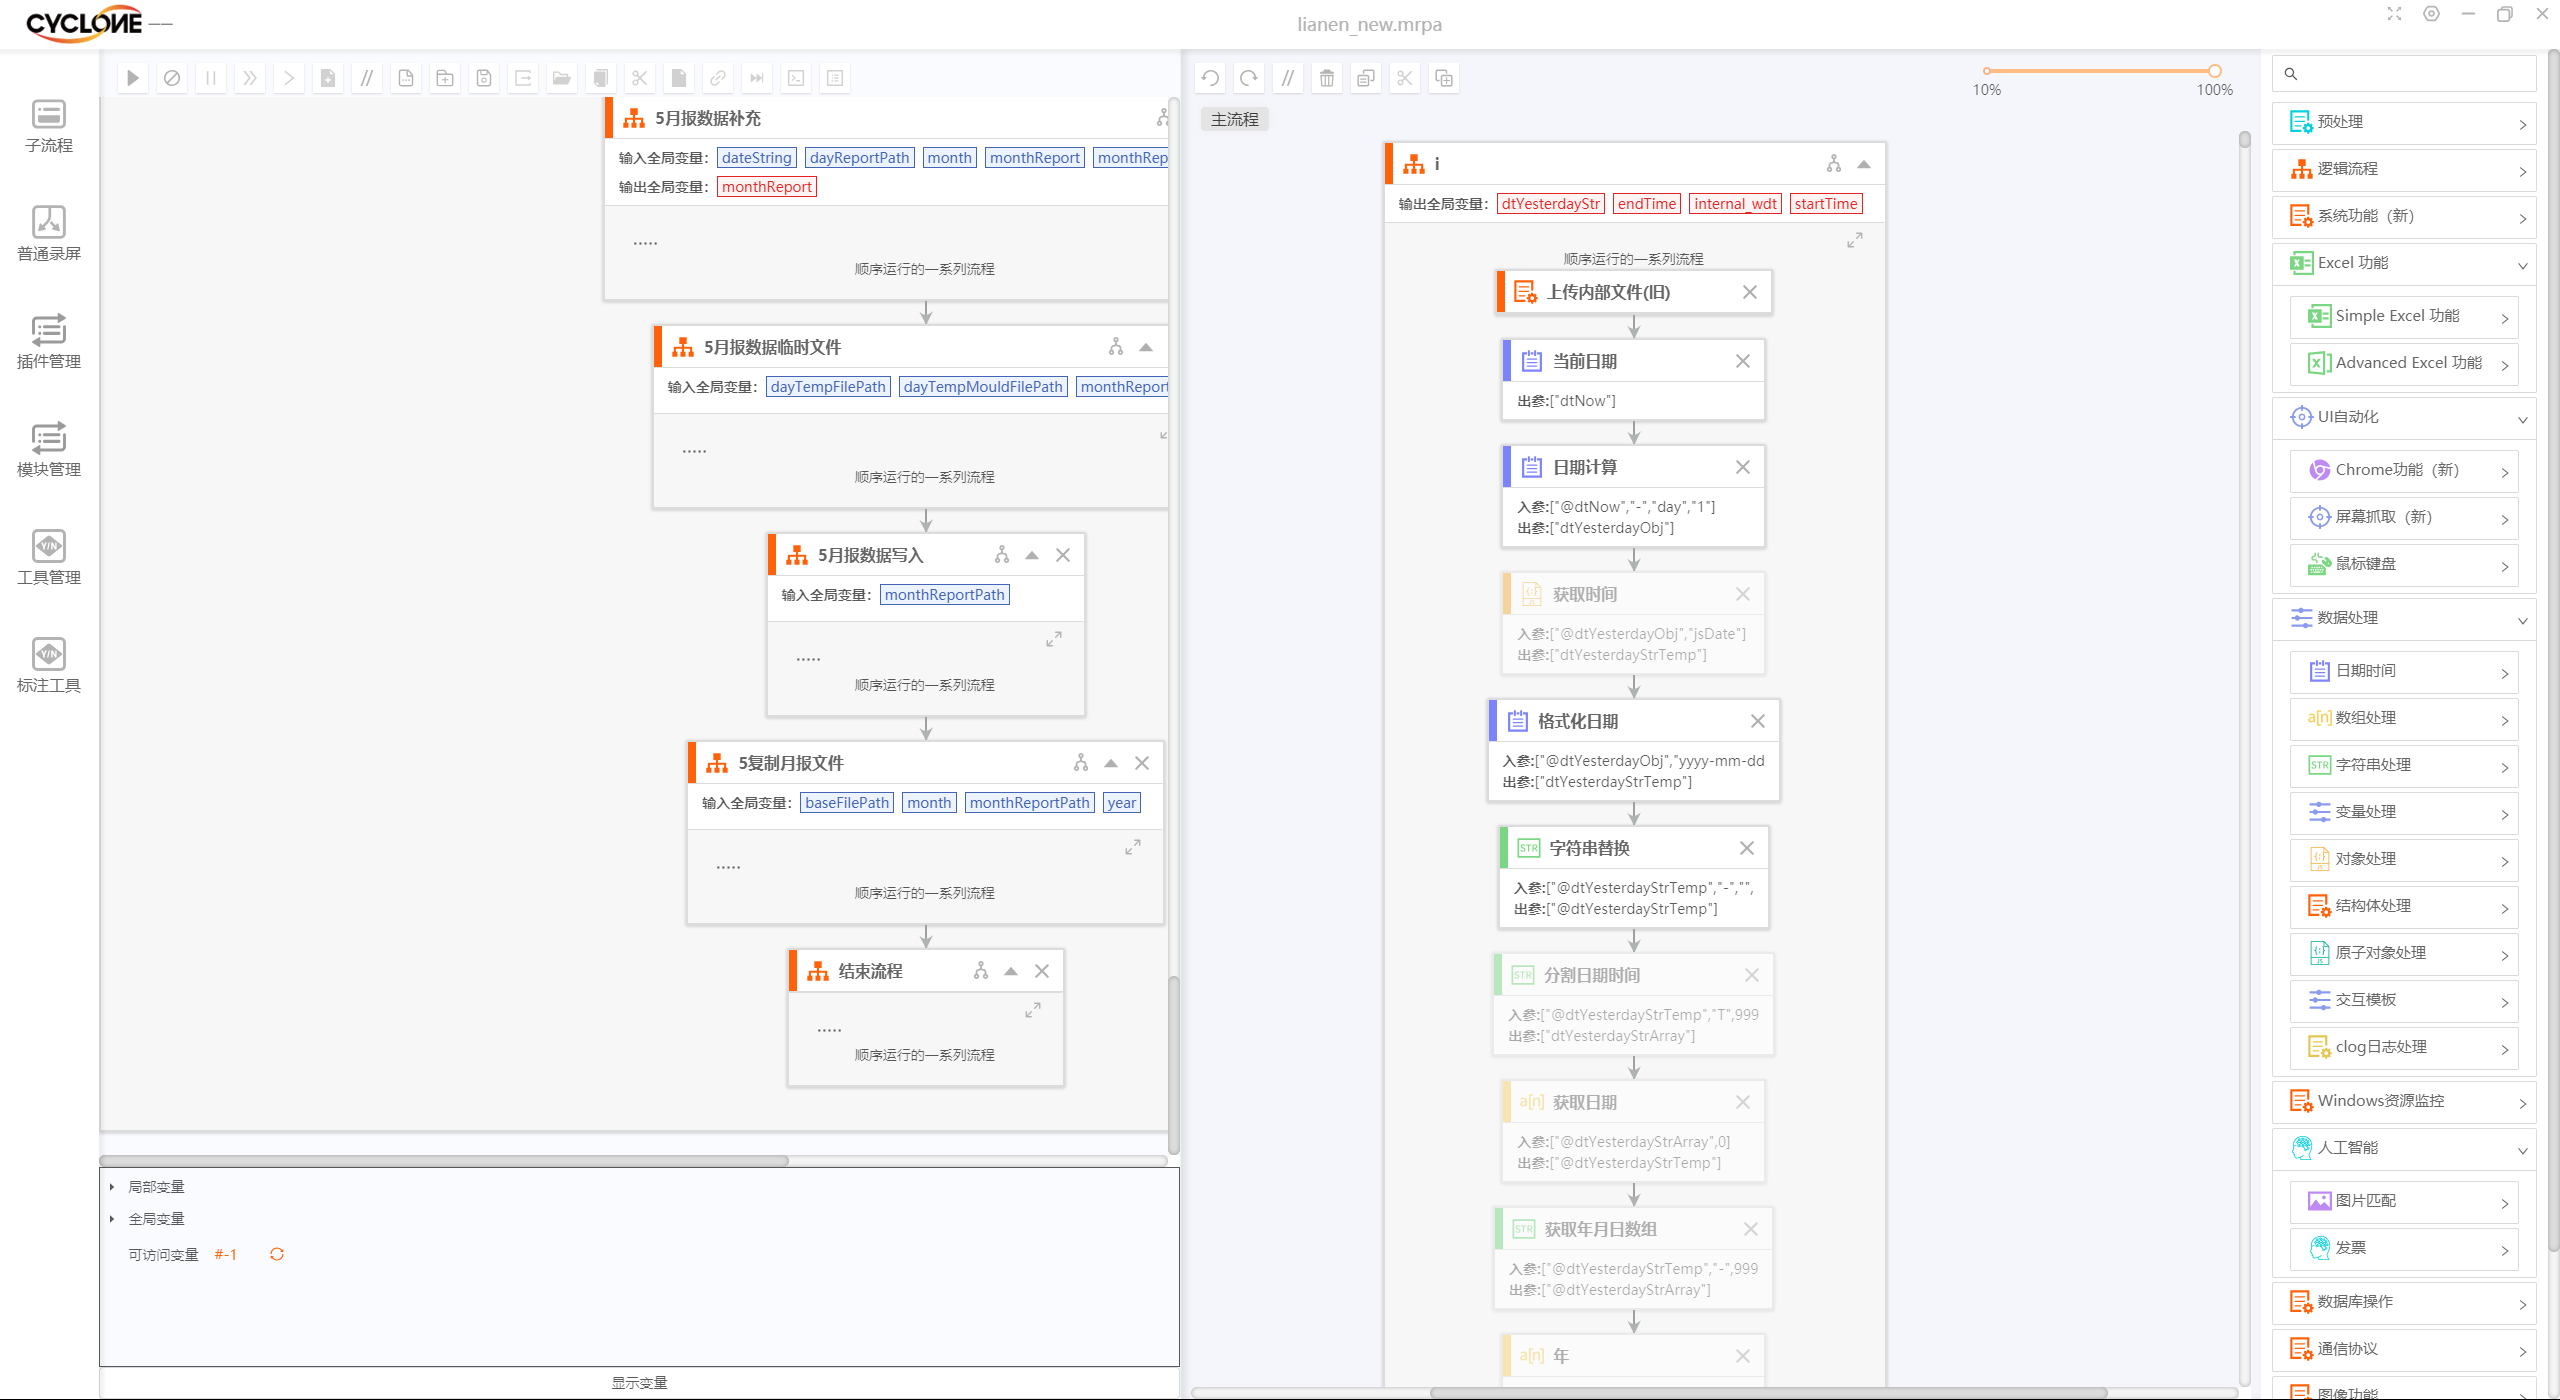character: (1508, 626, 1757, 647), (1510, 876, 1757, 897), (900, 374, 1071, 402), (845, 460, 1003, 490), (1510, 1128, 1733, 1148), (1503, 1259, 1765, 1276), (1502, 1007, 1760, 1022), (1296, 10, 1452, 34), (1500, 753, 1769, 767), (1515, 903, 1722, 921), (1514, 498, 1714, 516), (2339, 352, 2488, 374), (1514, 1157, 1724, 1172), (1564, 245, 1707, 267), (1514, 648, 1717, 664), (1505, 1029, 1708, 1045), (765, 374, 895, 398), (1500, 774, 1700, 790), (703, 336, 850, 357), (714, 174, 822, 202), (1508, 1284, 1720, 1298), (965, 793, 1093, 816), (2334, 459, 2462, 481), (852, 257, 998, 276), (852, 1047, 998, 1066), (1493, 190, 1607, 214), (807, 147, 915, 171), (2317, 1090, 2450, 1109), (1552, 281, 1672, 302), (883, 586, 1010, 605), (2338, 303, 2465, 322), (859, 884, 998, 902), (1510, 521, 1677, 534), (802, 790, 896, 814), (853, 678, 995, 693), (983, 148, 1088, 169), (1688, 191, 1784, 214), (1077, 374, 1165, 398), (1546, 964, 1648, 983), (715, 145, 800, 167), (1539, 710, 1624, 733), (1552, 836, 1634, 859), (740, 753, 845, 771), (821, 548, 922, 566), (695, 793, 795, 810), (655, 109, 764, 124), (2315, 1293, 2403, 1312), (921, 143, 981, 171), (2338, 703, 2401, 729), (664, 379, 759, 397), (1550, 583, 1622, 605), (1612, 191, 1683, 214), (781, 586, 872, 603), (2339, 507, 2431, 524), (2338, 943, 2429, 960), (2338, 1038, 2427, 1055), (2322, 253, 2396, 274), (615, 152, 714, 167), (2320, 209, 2419, 224), (840, 959, 907, 981), (1543, 1222, 1667, 1234), (1520, 393, 1615, 409), (617, 181, 710, 197), (1555, 1091, 1619, 1114), (2343, 753, 2412, 774), (2320, 155, 2382, 178), (2334, 660, 2400, 681), (14, 676, 84, 695), (1100, 147, 1164, 167), (14, 245, 83, 264), (14, 567, 83, 586), (1793, 195, 1862, 214), (900, 791, 957, 814), (2317, 1336, 2377, 1357), (2338, 897, 2410, 914), (2334, 848, 2400, 867), (607, 1372, 671, 1391), (128, 1248, 203, 1264), (16, 352, 83, 369), (16, 460, 83, 478), (1552, 459, 1619, 476), (2339, 993, 2407, 1010), (1553, 352, 1619, 369), (124, 1179, 197, 1195), (2320, 1140, 2384, 1157), (22, 133, 74, 153), (1203, 109, 1271, 124), (2338, 805, 2396, 822), (126, 1212, 195, 1226), (2322, 409, 2377, 426), (1398, 198, 1488, 209), (2319, 112, 2372, 129), (2339, 555, 2396, 571), (2319, 1386, 2382, 1400), (2338, 1195, 2398, 1209), (2320, 610, 2377, 624), (1105, 791, 1140, 814), (2338, 1240, 2374, 1259), (2195, 83, 2238, 97), (215, 1245, 240, 1264), (1433, 153, 1453, 174), (1977, 79, 2000, 97), (1557, 1347, 1570, 1366)
icon: (22, 3, 145, 41), (29, 310, 67, 348), (29, 528, 67, 566), (29, 634, 67, 672), (29, 203, 67, 240), (29, 419, 67, 455), (29, 97, 67, 131), (1272, 64, 1303, 93), (353, 64, 383, 93), (117, 62, 147, 91), (703, 64, 733, 93), (195, 64, 226, 91), (507, 64, 538, 91), (391, 64, 421, 91), (664, 64, 693, 91), (546, 64, 576, 91), (1233, 64, 1262, 91), (1352, 64, 1381, 91), (1389, 64, 1419, 91), (2305, 348, 2332, 378), (314, 64, 341, 91), (469, 64, 496, 91), (626, 64, 653, 91), (781, 64, 809, 91), (821, 64, 848, 91), (1314, 64, 1341, 91), (155, 64, 184, 90), (234, 64, 264, 90), (429, 64, 459, 90), (677, 441, 715, 460), (714, 855, 752, 874), (814, 1022, 852, 1041), (586, 64, 614, 90), (1196, 64, 1224, 90), (1431, 64, 1457, 91), (1512, 276, 1538, 303), (2288, 107, 2313, 134), (2307, 302, 2332, 329), (2288, 248, 2313, 276), (2288, 1286, 2313, 1314), (2288, 1086, 2313, 1114), (2307, 1031, 2331, 1060), (276, 64, 302, 90), (2288, 202, 2313, 228), (2307, 503, 2332, 529), (2307, 986, 2332, 1012), (2307, 1188, 2332, 1214), (2288, 1334, 2313, 1360), (2307, 891, 2331, 919), (1507, 705, 1529, 734), (2289, 403, 2313, 429), (2307, 705, 2332, 729), (2307, 550, 2331, 576), (1517, 834, 1541, 860), (2307, 752, 2332, 776), (1519, 1090, 1545, 1114), (1520, 452, 1543, 479), (1520, 578, 1543, 605), (2308, 657, 2331, 684), (2308, 845, 2331, 872), (2308, 938, 2331, 966), (2289, 605, 2313, 629), (1510, 962, 1534, 986), (2308, 798, 2332, 822), (1520, 347, 1543, 372), (2291, 1134, 2313, 1160), (2308, 1234, 2331, 1260), (1519, 1345, 1546, 1366), (745, 67, 769, 90), (1512, 1216, 1534, 1240), (2308, 459, 2331, 481), (705, 752, 727, 774), (784, 545, 809, 566), (672, 336, 695, 357), (1403, 153, 1426, 174), (2289, 159, 2312, 179), (807, 960, 829, 981), (1022, 1002, 1046, 1021), (622, 109, 645, 128), (2288, 1381, 2312, 1398), (1071, 752, 1090, 772), (1122, 836, 1143, 855), (1826, 152, 1843, 174), (2420, 3, 2439, 22), (2384, 3, 2403, 22), (2494, 5, 2513, 22), (2458, 3, 2477, 21), (1053, 545, 1071, 564), (1045, 629, 1064, 647), (1033, 960, 1050, 979), (1734, 1091, 1751, 1110), (1108, 334, 1124, 355), (972, 959, 988, 979), (1741, 283, 1758, 300), (1734, 352, 1751, 369), (1846, 229, 1864, 247), (1734, 459, 1751, 476), (1734, 584, 1751, 602), (1133, 753, 1150, 771), (1734, 1347, 1751, 1364), (995, 543, 1008, 564), (1750, 710, 1765, 728), (1739, 838, 1755, 855), (1745, 966, 1760, 983), (103, 1179, 121, 1195), (2238, 129, 2251, 148), (2282, 66, 2298, 81), (2534, 5, 2550, 21), (1743, 1221, 1758, 1236), (1157, 107, 1169, 126), (1138, 340, 1153, 353), (1857, 155, 1870, 171), (2207, 64, 2222, 78), (2498, 559, 2512, 574), (2515, 614, 2531, 628), (1003, 964, 1019, 978), (1103, 755, 1119, 769), (269, 1247, 284, 1260), (2498, 359, 2512, 372), (2515, 259, 2529, 272), (1024, 548, 1040, 560), (2515, 414, 2531, 426), (2500, 666, 2512, 679), (2500, 714, 2512, 728), (2500, 853, 2512, 867), (2500, 1243, 2512, 1257), (2515, 1145, 2529, 1157), (2500, 310, 2510, 326), (2500, 948, 2510, 964), (105, 1214, 117, 1226), (2517, 117, 2527, 131), (2517, 210, 2527, 224), (2500, 512, 2510, 526), (2500, 466, 2510, 479), (2500, 760, 2510, 774), (2500, 902, 2510, 916), (2500, 807, 2510, 821), (2500, 1197, 2510, 1210), (2500, 1041, 2510, 1055), (2517, 1297, 2527, 1310), (2519, 164, 2527, 179), (2500, 997, 2510, 1009), (2519, 1097, 2527, 1110), (2519, 1345, 2527, 1359), (1162, 436, 1169, 441)
